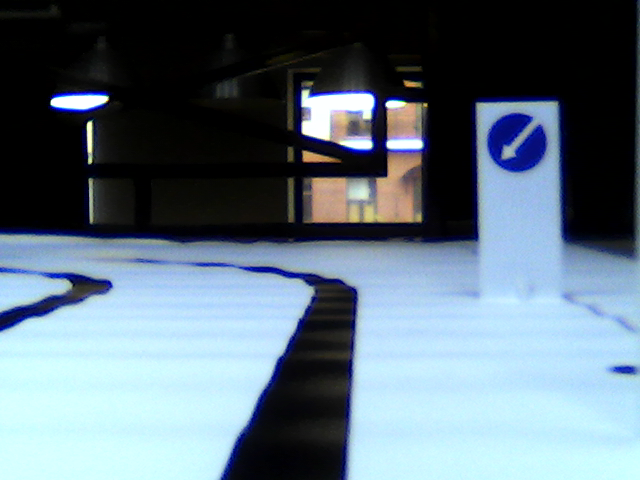prep: (485, 111, 546, 171)
